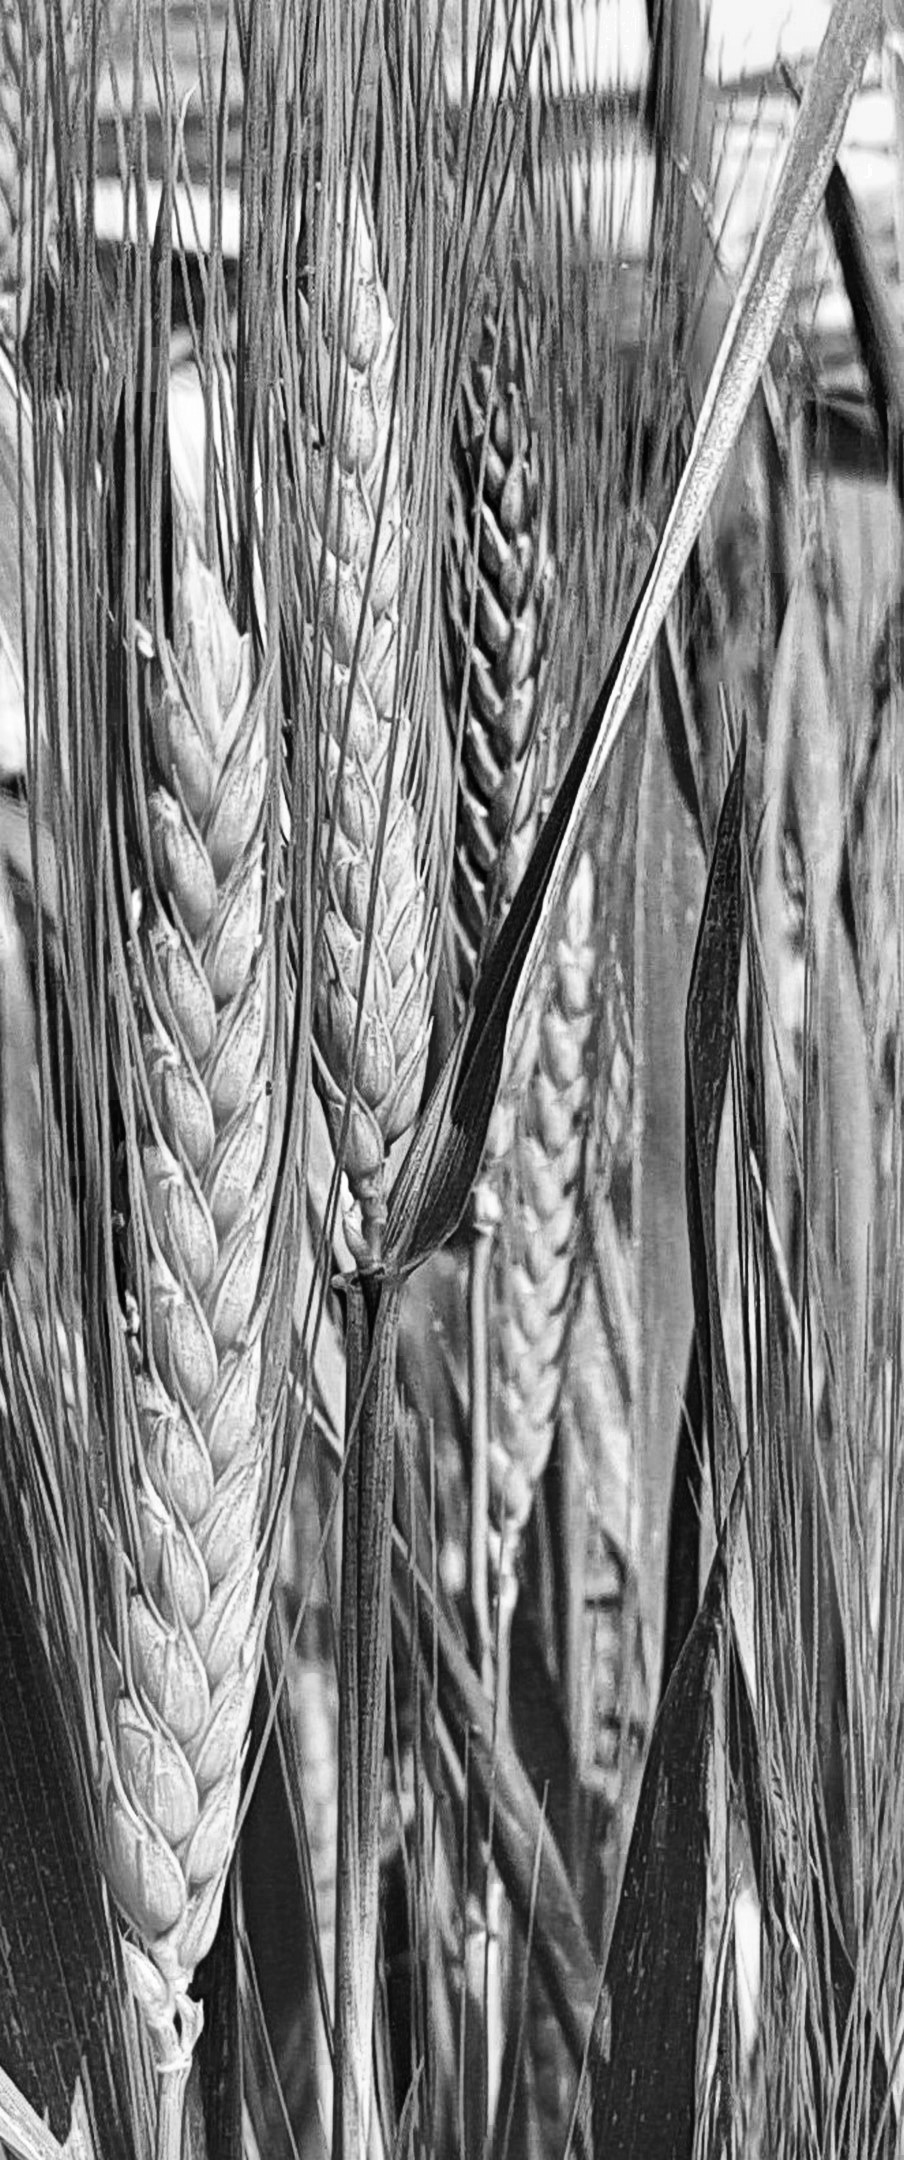Healthy Wheat: (41, 561, 311, 1982)
